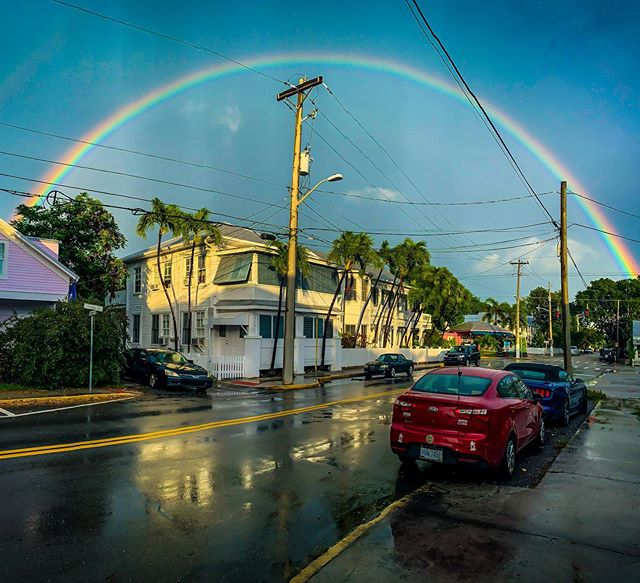building: (136, 248, 427, 380), (1, 226, 99, 391)
car: (400, 367, 544, 484), (119, 342, 214, 397), (370, 346, 420, 377)
rainbow: (33, 34, 640, 274)
sky: (1, 1, 628, 228)
street: (1, 360, 562, 583)
